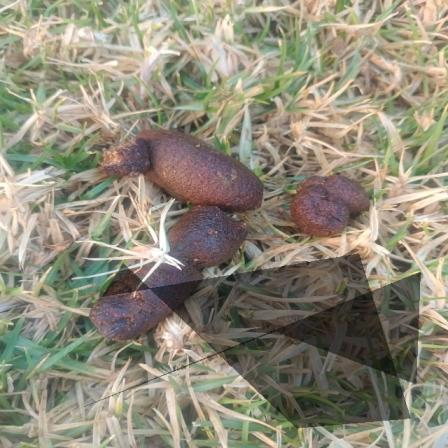dog-poop: (96, 127, 256, 341), (293, 177, 370, 240)
